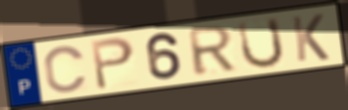6: (145, 31, 184, 82)
C: (42, 43, 90, 95)
K: (289, 12, 332, 63)
P: (88, 35, 137, 92)
R: (185, 24, 239, 78)
U: (236, 15, 287, 71)
